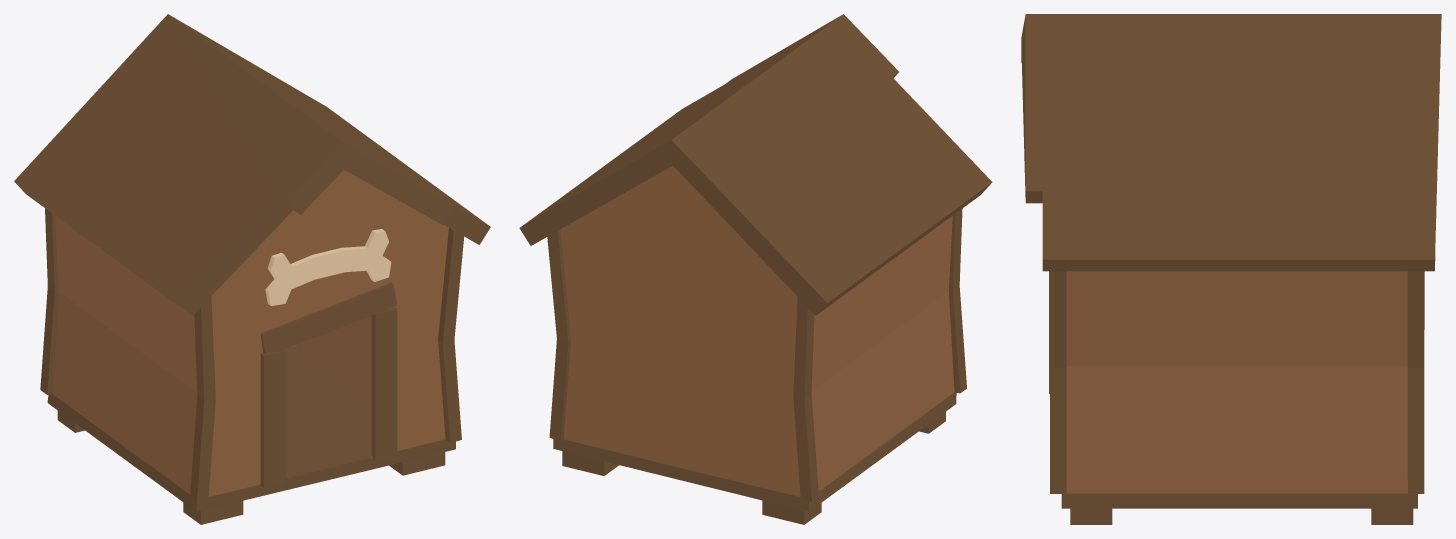
File: shed-dog.glb
3 views of the same model, side by side, from view 1: azimuth 30°, elevation 25°; view 2: azimuth 150°, elevation 25°; view 3: azimuth 270°, elevation 25° (orthographic). The views are drawn at different scales.
Parts seen in each view (by area): view 1: shed-dog; view 2: shed-dog; view 3: shed-dog.
Part boxes in pixels (x1,y1,x2,y2): shed-dog: (14, 14, 490, 524); shed-dog: (519, 14, 992, 524); shed-dog: (1021, 14, 1441, 524).
Bounding box in the file's own units: 1.05 × 1.19 × 1.03.
1 material, 1 textured.
